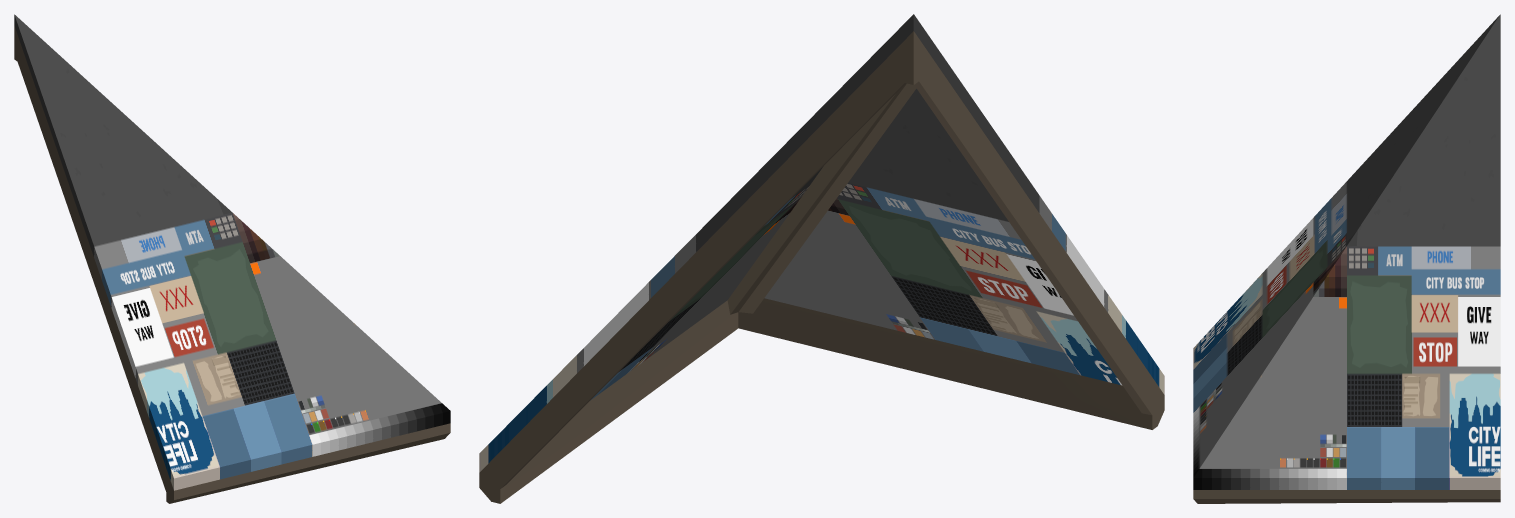
The model's file is SM_Bld_Base_Roof_Corner_Out_01.glb.
The picture shows the model from 3 angles, left to right: view 1: azimuth 30°, elevation 25°; view 2: azimuth 150°, elevation 25°; view 3: azimuth 270°, elevation 25°; orthographic projection. The views are drawn at different scales.
Visible parts, largest first — view 1: SM_Bld_Base_Roof_Corner_Out_01; view 2: SM_Bld_Base_Roof_Corner_Out_01; view 3: SM_Bld_Base_Roof_Corner_Out_01.
Boxes of the visible parts, box(x1,y1,x2,y2) form: SM_Bld_Base_Roof_Corner_Out_01: box(14, 14, 450, 503); SM_Bld_Base_Roof_Corner_Out_01: box(479, 14, 1164, 503); SM_Bld_Base_Roof_Corner_Out_01: box(1193, 14, 1500, 503).
Size of the model in its own units: 2.5 by 3.25 by 2.5.
3 materials, 3 textured.
